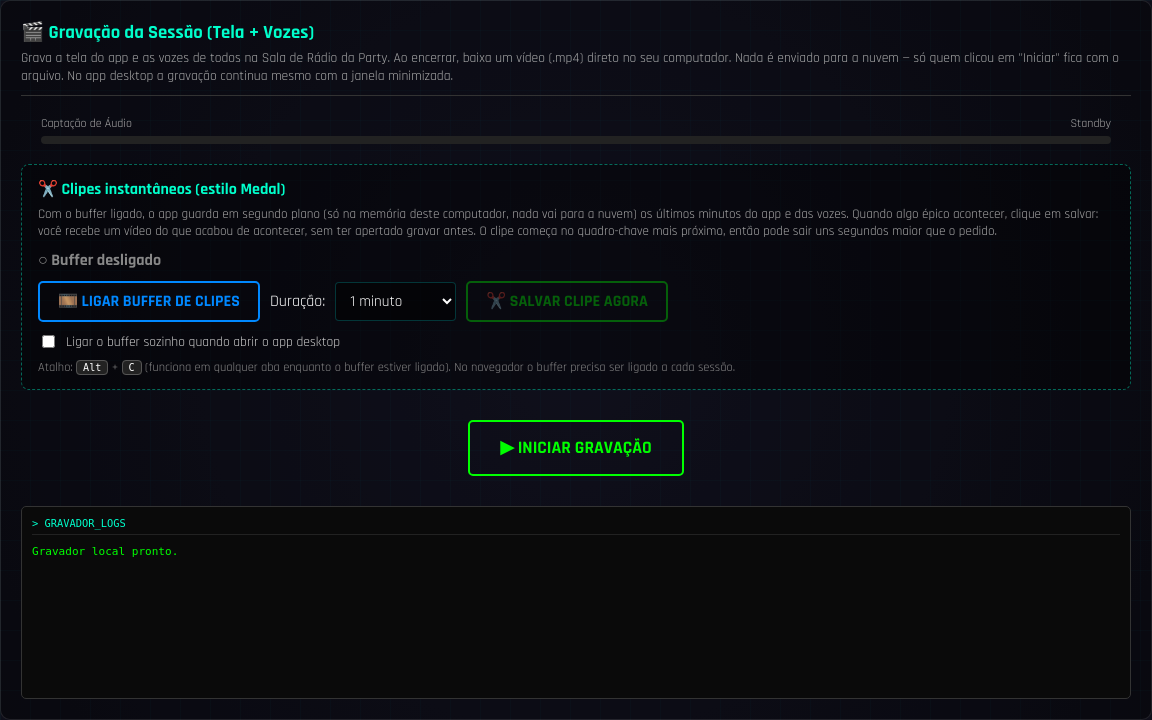
Test case: GravadorPanel: aviso "Sem captura de tela" › aparece tambem no modo buffer de clipes sem captura de tela
Click the button "🎞️ LIGAR BUFFER DE CLIPES".
click(149, 302)  # box 38,281 -> 260,322
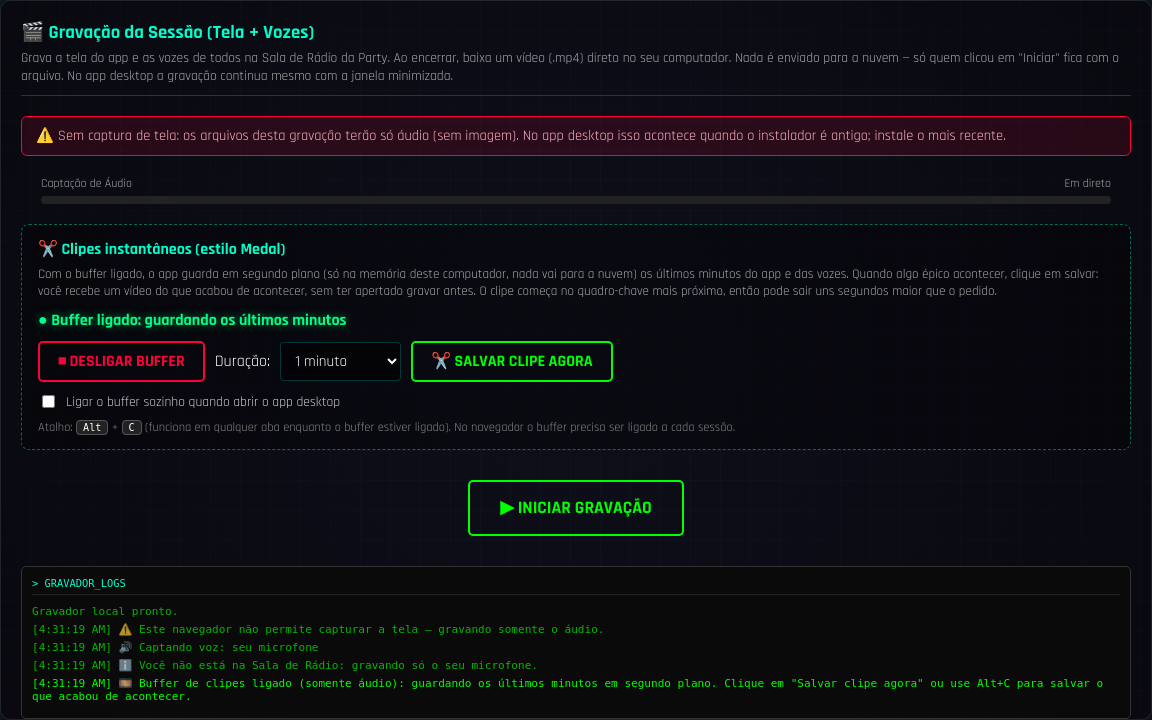
Expected: the message is shown, 21,116 -> 1131,156
